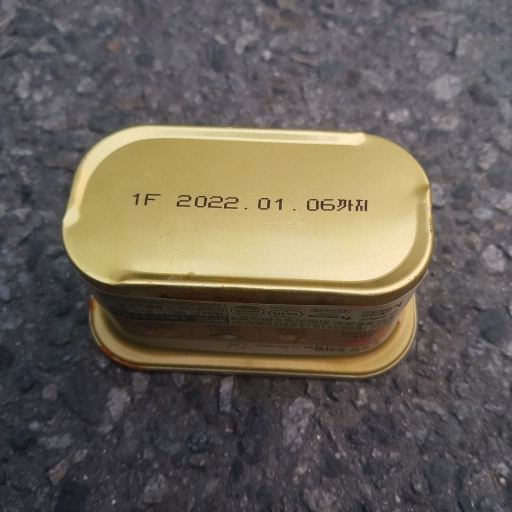Metal_2: (64, 119, 438, 376)
